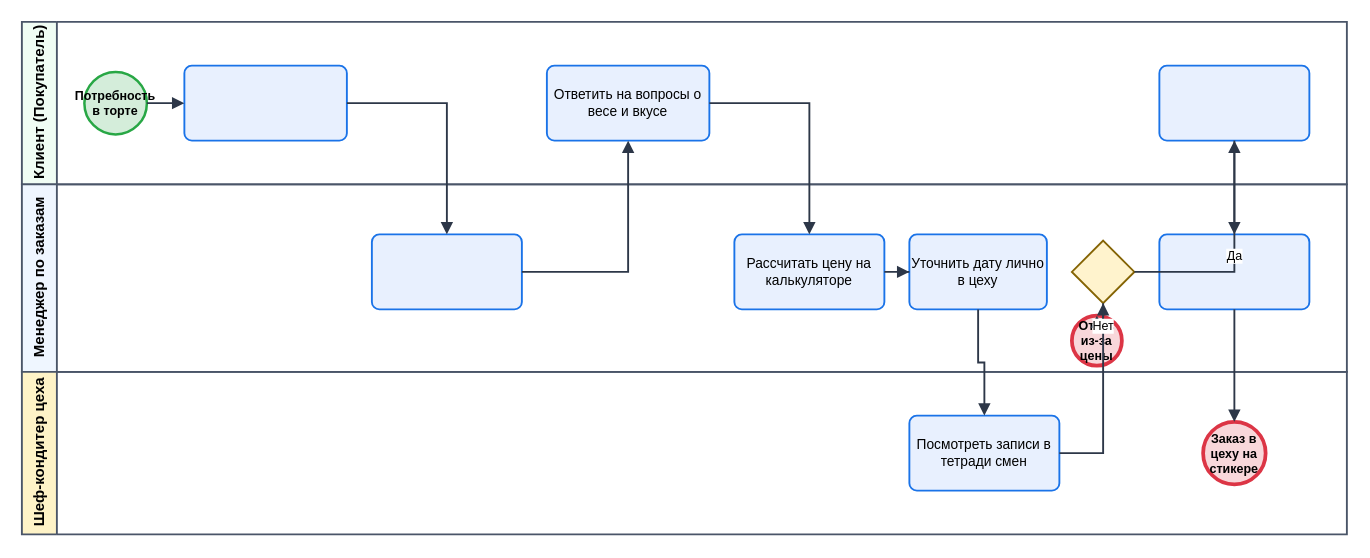
Some shapes in this 1370 by 558 pixel diagram are drawn without their labels. The centre of each missing label's shape, as x and y in pixels:
Клиент согласен?: point (1102, 271)
Написать сообщение в WhatsApp с фото: point (265, 102)
Перевести аванс по номеру телефона: point (1234, 102)
Проверить чек и выписать стикер: point (1234, 271)
Прочитать чат и задать вопросы: point (446, 271)
